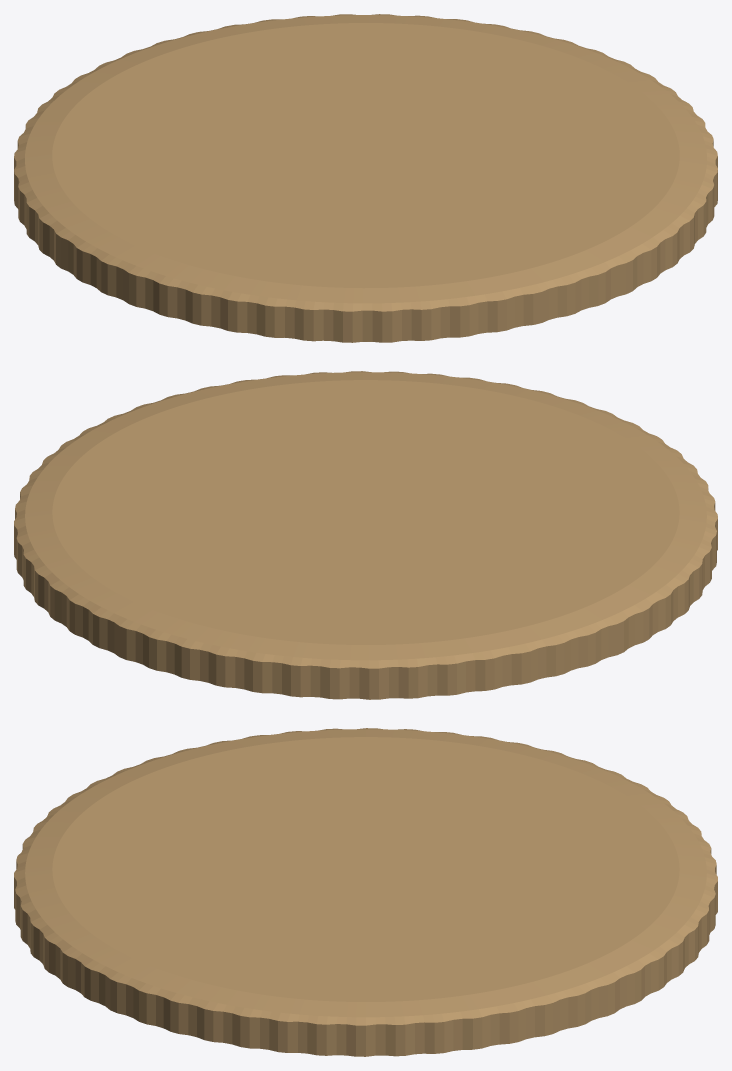
Rendered from coin.glb.
3 renders of one model, top to bottom at view 1: azimuth 30°, elevation 25°; view 2: azimuth 150°, elevation 25°; view 3: azimuth 270°, elevation 25°, orthographic.
Parts seen in each view (by area): view 1: Worn coin gold; view 2: Worn coin gold; view 3: Worn coin gold.
Boxes of the visible parts, x1=… form: Worn coin gold: x1=14, y1=14, x2=717, y2=342; Worn coin gold: x1=14, y1=371, x2=717, y2=699; Worn coin gold: x1=14, y1=728, x2=717, y2=1056.
Size of the model in its own units: 0.0696 by 0.005 by 0.0696.
